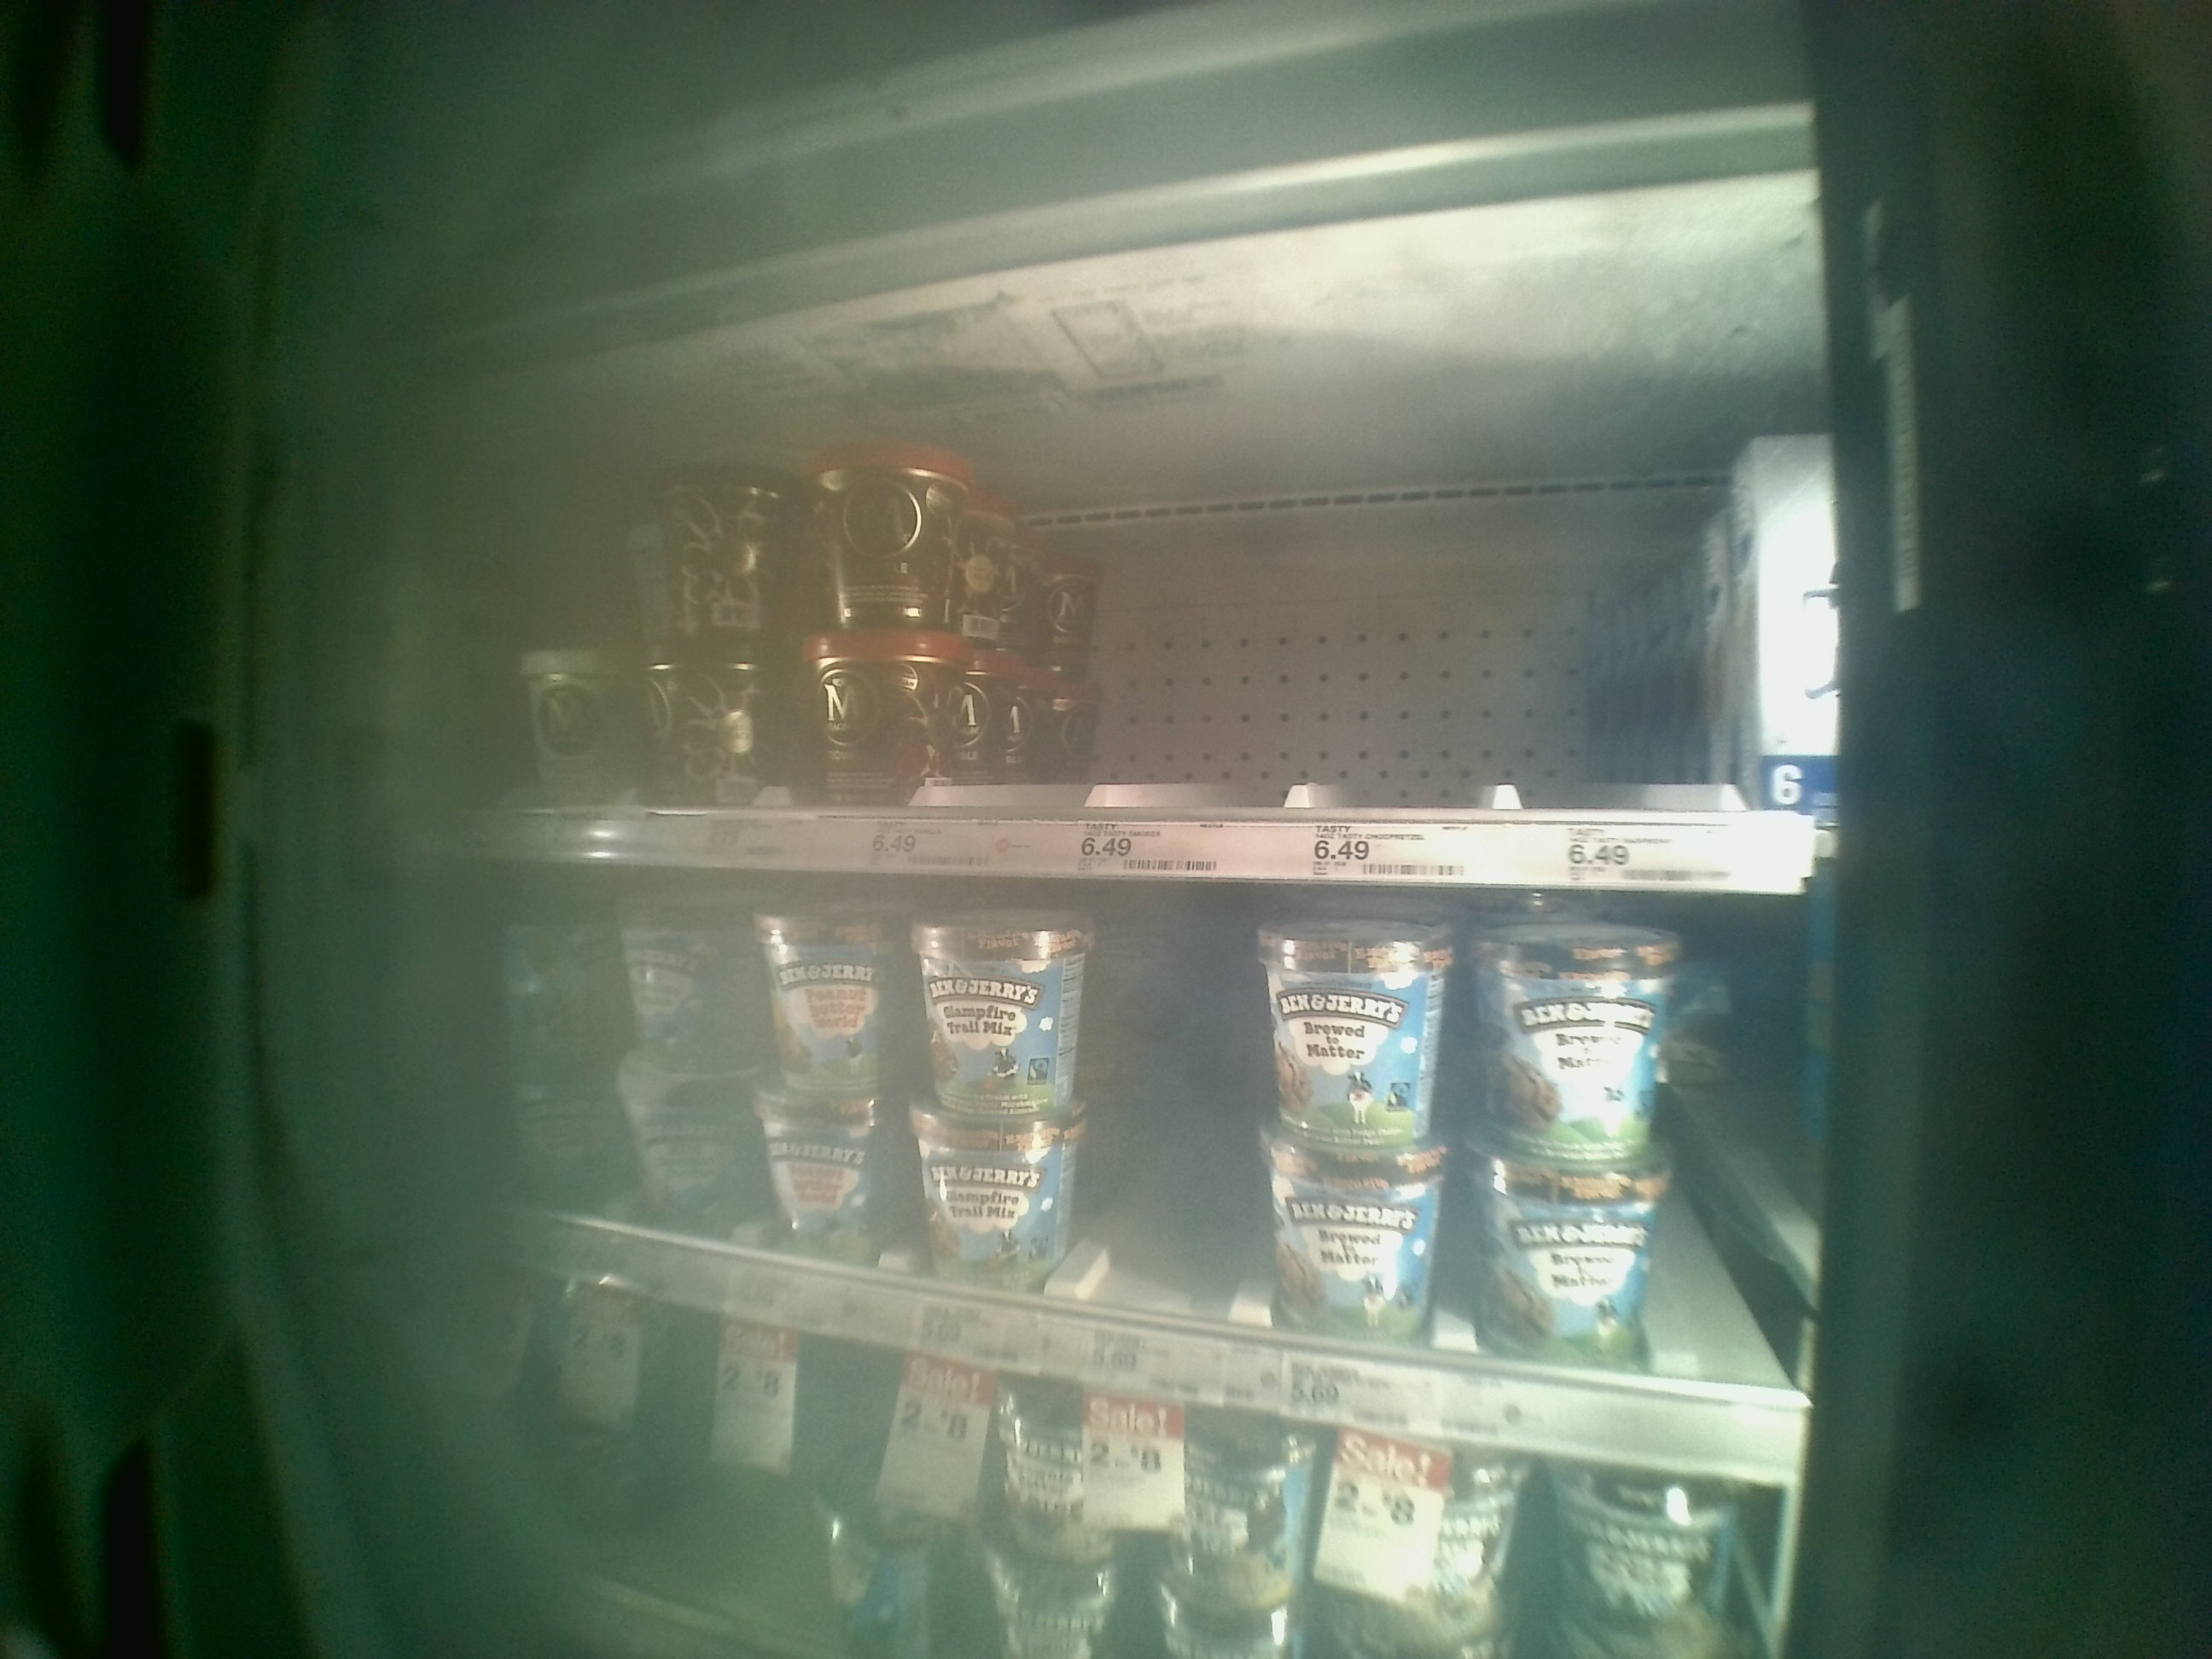shelf: (406, 868, 1843, 1480), (380, 385, 1843, 884)
